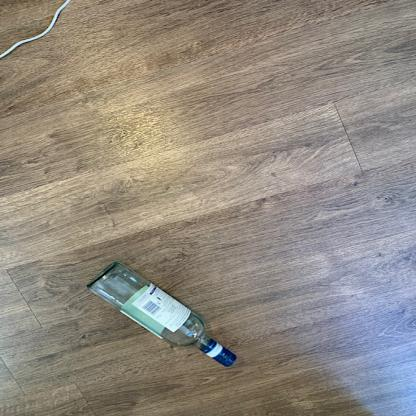trash: (84, 260, 240, 370)
